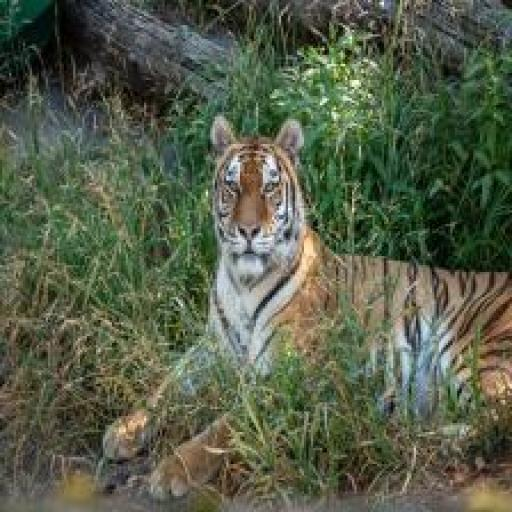Tiger: (96, 114, 512, 512)
